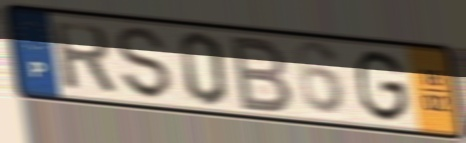0: (177, 29, 232, 110)
6: (296, 38, 348, 123)
B: (229, 33, 296, 115)
G: (354, 47, 412, 125)
R: (49, 19, 120, 97)
S: (113, 25, 175, 103)
